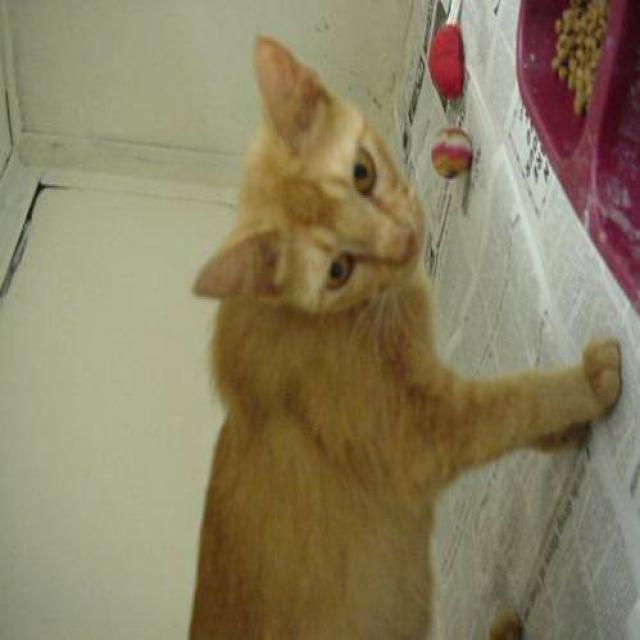cat: (185, 32, 623, 638)
